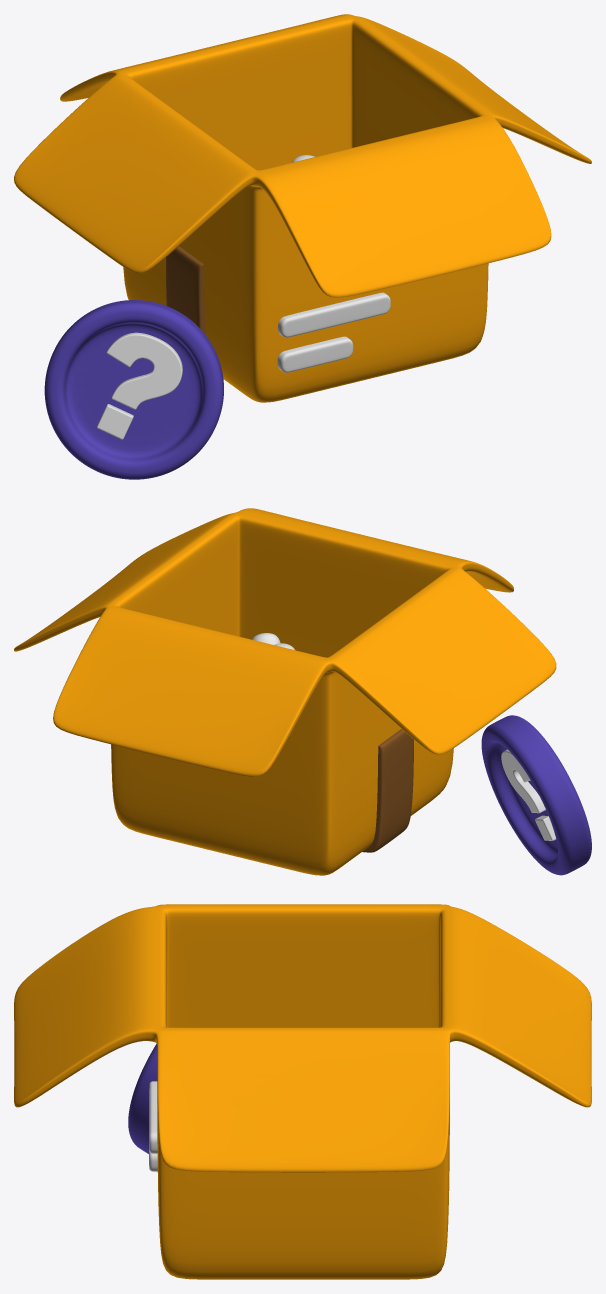
Rendered from no-data-animated-3d-icon-1593662758706.glb.
The picture shows the model from 3 angles, top to bottom: view 1: azimuth 30°, elevation 25°; view 2: azimuth 150°, elevation 25°; view 3: azimuth 270°, elevation 25°; orthographic projection. The views are drawn at different scales.
Visible parts, largest first — view 1: Box.001, Base.002, Question Symbol.001, Detail 2, Detail 1; view 2: Box.001, Base.002, Detail 1, Question Symbol.001; view 3: Box.001, Base.002, Detail 2.
Part boxes in pixels (x1=…): Box.001: x1=14, y1=14, x2=591, y2=402; Base.002: x1=44, y1=300, x2=223, y2=479; Question Symbol.001: x1=97, y1=332, x2=182, y2=439; Detail 2: x1=277, y1=292, x2=390, y2=372; Detail 1: x1=166, y1=246, x2=205, y2=334; Box.001: x1=14, y1=508, x2=556, y2=875; Base.002: x1=481, y1=715, x2=591, y2=875; Detail 1: x1=362, y1=729, x2=413, y2=852; Question Symbol.001: x1=501, y1=749, x2=556, y2=840; Box.001: x1=14, y1=904, x2=591, y2=1279; Base.002: x1=128, y1=1043, x2=157, y2=1153; Detail 2: x1=149, y1=1081, x2=157, y2=1171.
Size of the model in its own units: 4.37 by 2.3 by 3.95.
